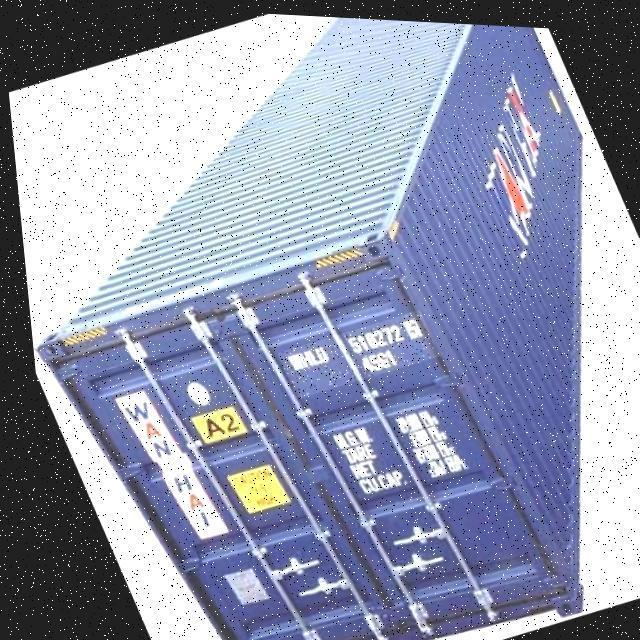container_number_h: (266, 299, 437, 402)
